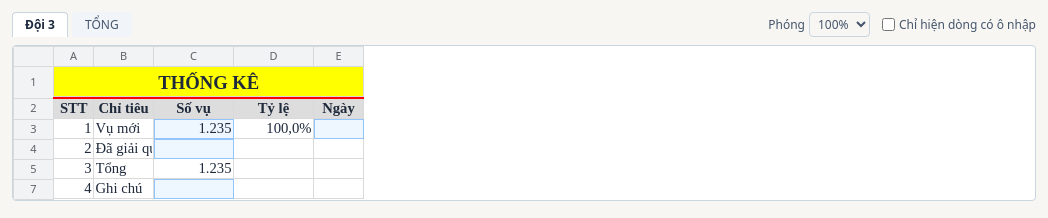
Test: GridViewer › shows no tabs for a single sheet, and switches between sheets when there are several
The image size is (1048, 218).
Click the tab with test id "grid-tab-TỔNG".
click(102, 24)  # box 72,12 -> 132,37
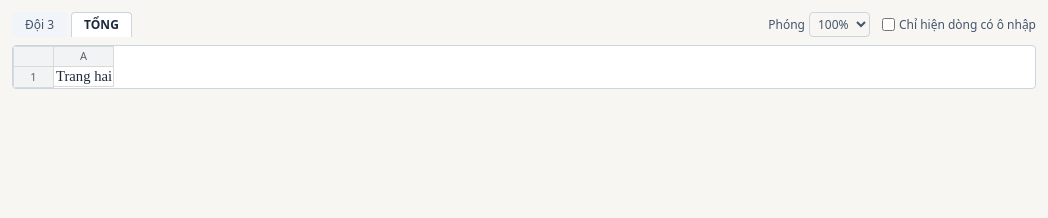
Result: the cell with test id "cell-A1" reads "Trang hai" at 56,68 -> 112,84
